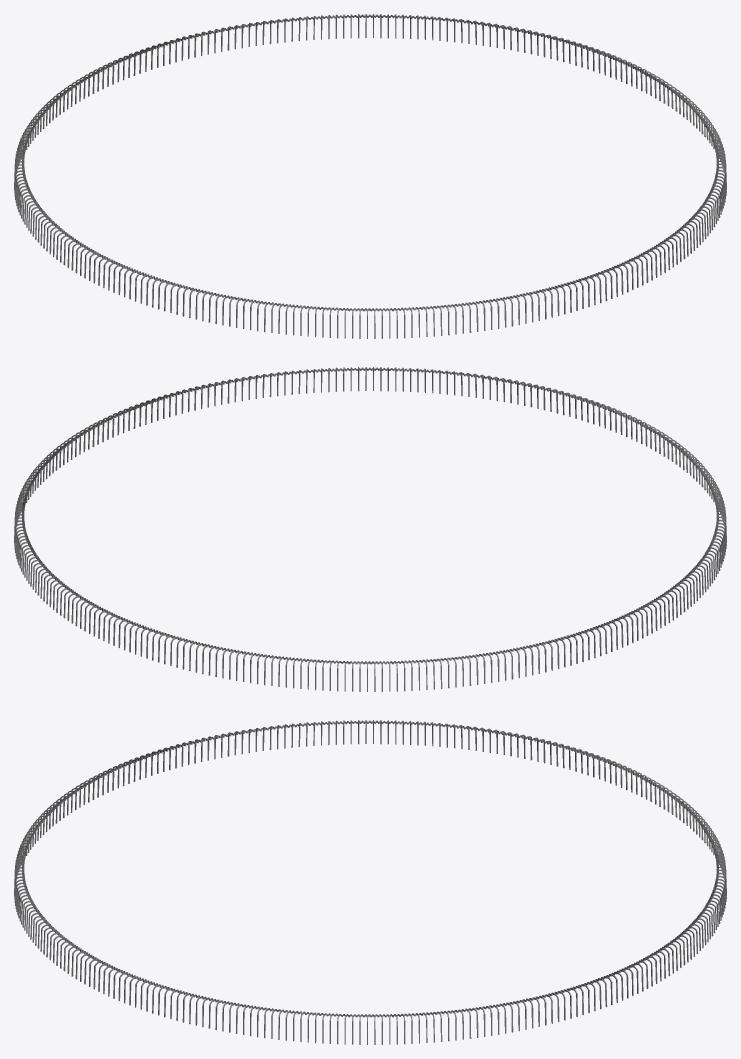
The picture shows the model from 3 angles, top to bottom: view 1: azimuth 30°, elevation 25°; view 2: azimuth 150°, elevation 25°; view 3: azimuth 270°, elevation 25°; orthographic projection.
Visible parts, largest first — view 1: 15_HZ_carrier, 15_HZ_circle03IN; view 2: 15_HZ_carrier, 15_HZ_circle03IN; view 3: 15_HZ_carrier, 15_HZ_circle03IN.
Part boxes in pixels (x1=…): 15_HZ_carrier: x1=14, y1=14, x2=726, y2=338; 15_HZ_circle03IN: x1=22, y1=14, x2=718, y2=311; 15_HZ_carrier: x1=14, y1=367, x2=726, y2=691; 15_HZ_circle03IN: x1=22, y1=367, x2=718, y2=664; 15_HZ_carrier: x1=14, y1=720, x2=726, y2=1044; 15_HZ_circle03IN: x1=22, y1=720, x2=718, y2=1017.
Size of the model in its own units: 12620 by 512 by 12620.
